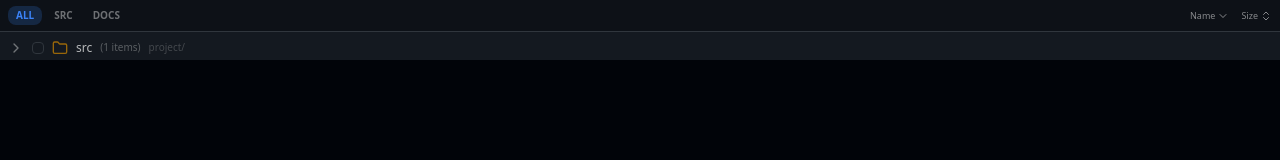
Test case: FileTree Path-Based Behavior › Paths as unique identifiers › should use path as unique identifier for nodes
The width and height of the screenshot is (1280, 160).
Expected: the text "src" is shown, 76,38 -> 92,56
Expand to see children
Click the button with test id "expand-icon": click(16, 48) 6,38 -> 26,58
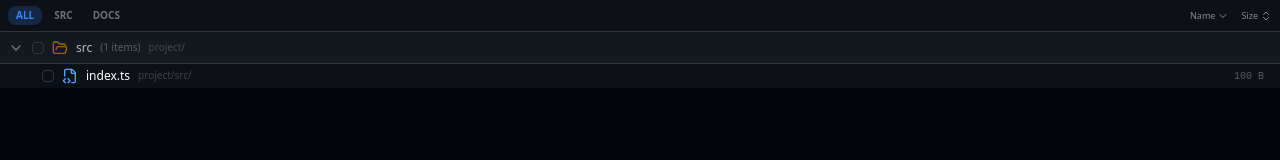
Expected: the text "index.ts" is shown, 86,66 -> 130,84
Expected: the number of list items with test id "tree-node" is 2, 0,32 -> 1279,64; 0,60 -> 1279,88
